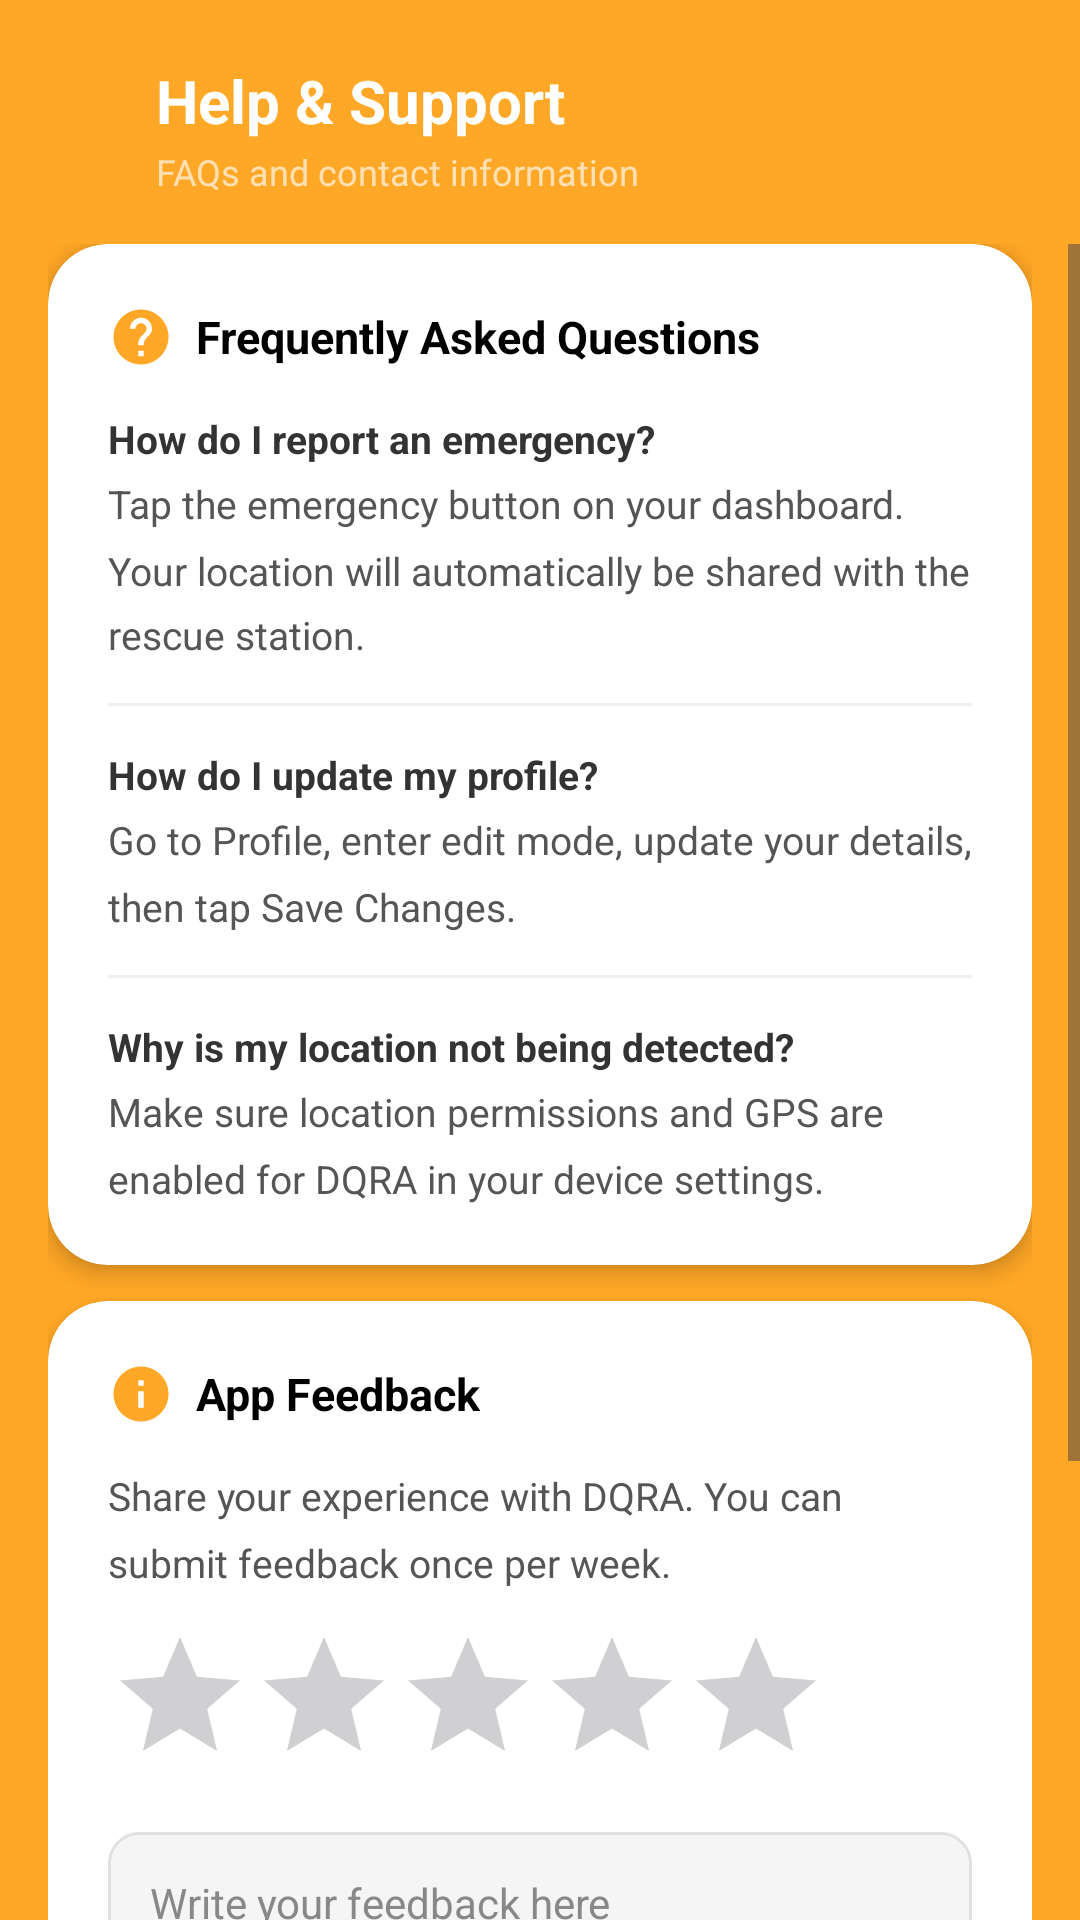

Named icons in this screenshot (1080px x 1920px) and their centers, [x,y]:
FAQ: [141,337]
